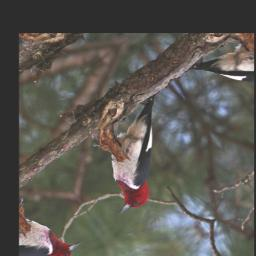Woodpecker: (71, 89, 210, 223)
